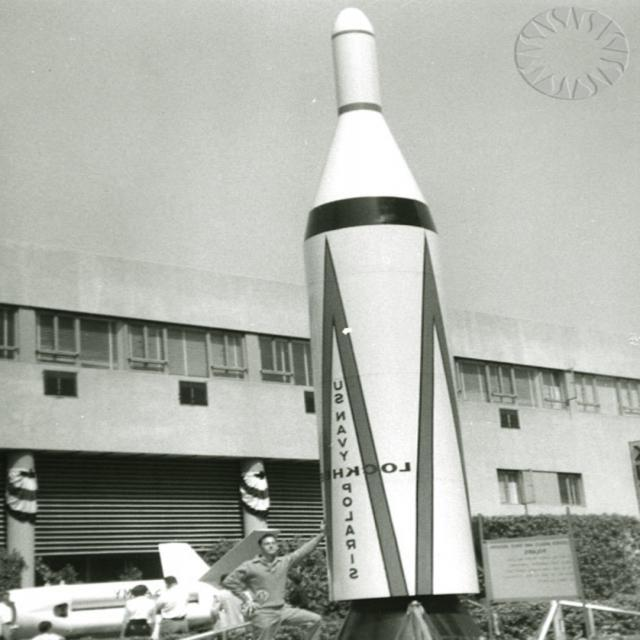missile: (294, 9, 488, 601)
